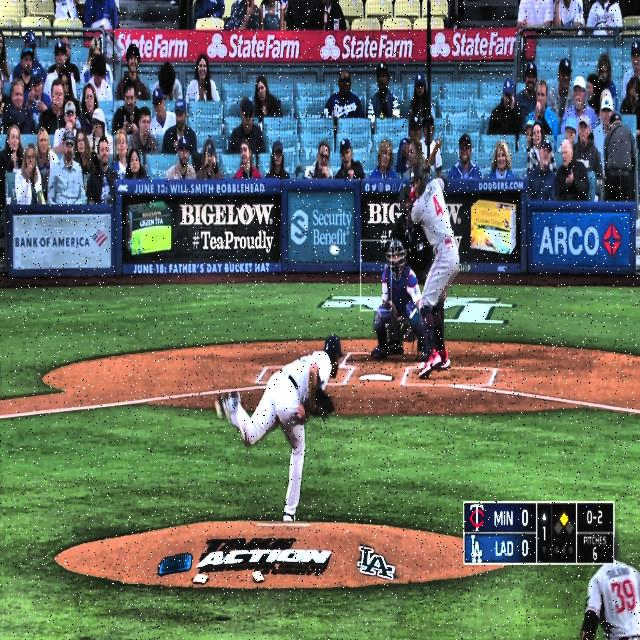baseball: (329, 244, 340, 258)
